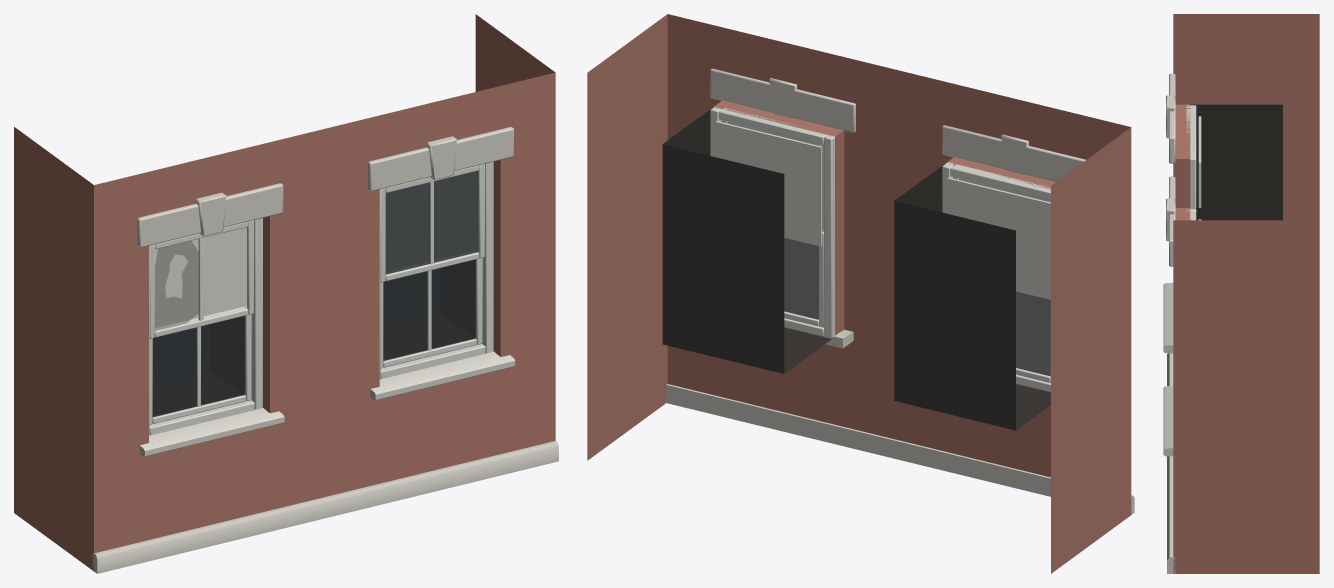
The model's file is upper_4c.glb.
3 views of the same model, side by side, from view 1: azimuth 30°, elevation 25°; view 2: azimuth 150°, elevation 25°; view 3: azimuth 270°, elevation 25° (orthographic). The views are drawn at different scales.
Parts seen in each view (by area): view 1: upper_4c; view 2: upper_4c; view 3: upper_4c.
Boxes of the visible parts, x1,y1,x2,y2 form: upper_4c: (14,14,558,573); upper_4c: (587,14,1134,573); upper_4c: (1163,14,1319,573).
Bounding box in the file's own units: 4 × 3.2 × 1.28.
